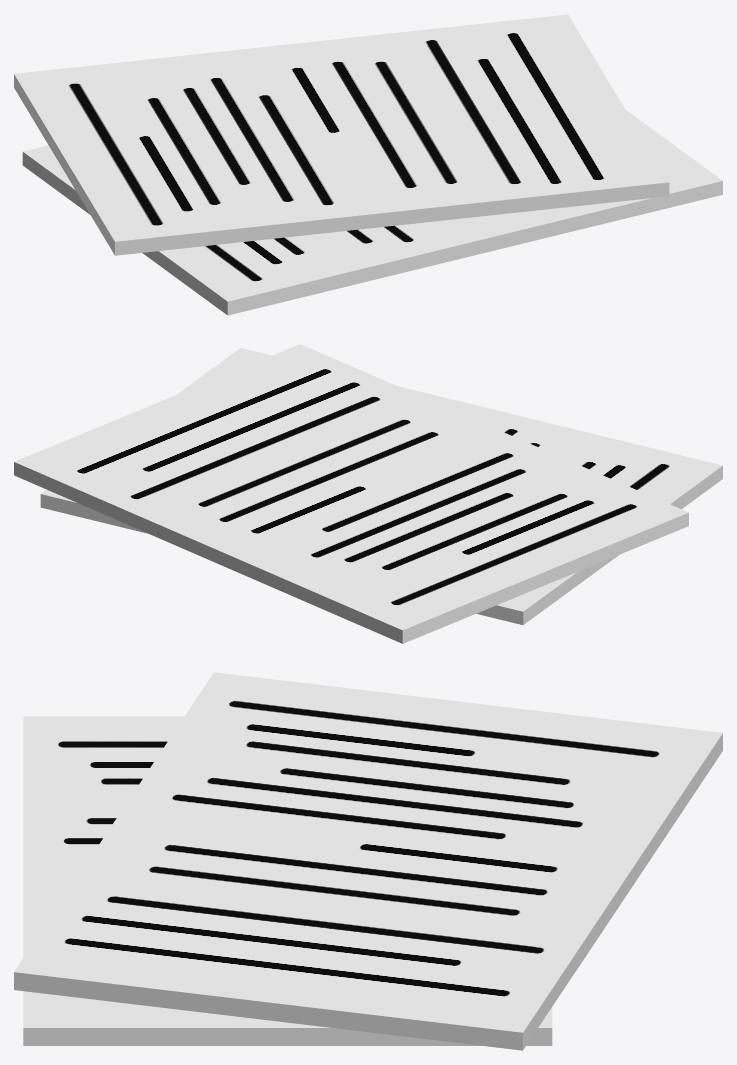
Rendered from PAPR.fbx.
The picture shows the model from 3 angles, top to bottom: view 1: azimuth 30°, elevation 25°; view 2: azimuth 150°, elevation 25°; view 3: azimuth 270°, elevation 25°; orthographic projection. The views are drawn at different scales.
Parts seen in each view (by area): view 1: pCube2, pCube1; view 2: pCube2, pCube1; view 3: pCube2, pCube1.
Part boxes in pixels (<box>): pCube2: <box>14,14,669,255</box>; pCube1: <box>22,110,722,315</box>; pCube2: <box>14,344,688,643</box>; pCube1: <box>40,348,722,624</box>; pCube2: <box>14,672,722,1050</box>; pCube1: <box>23,716,552,1045</box>.
Size of the model in its own units: 3.35 by 0.1628 by 2.78.
1 material, 1 textured.
